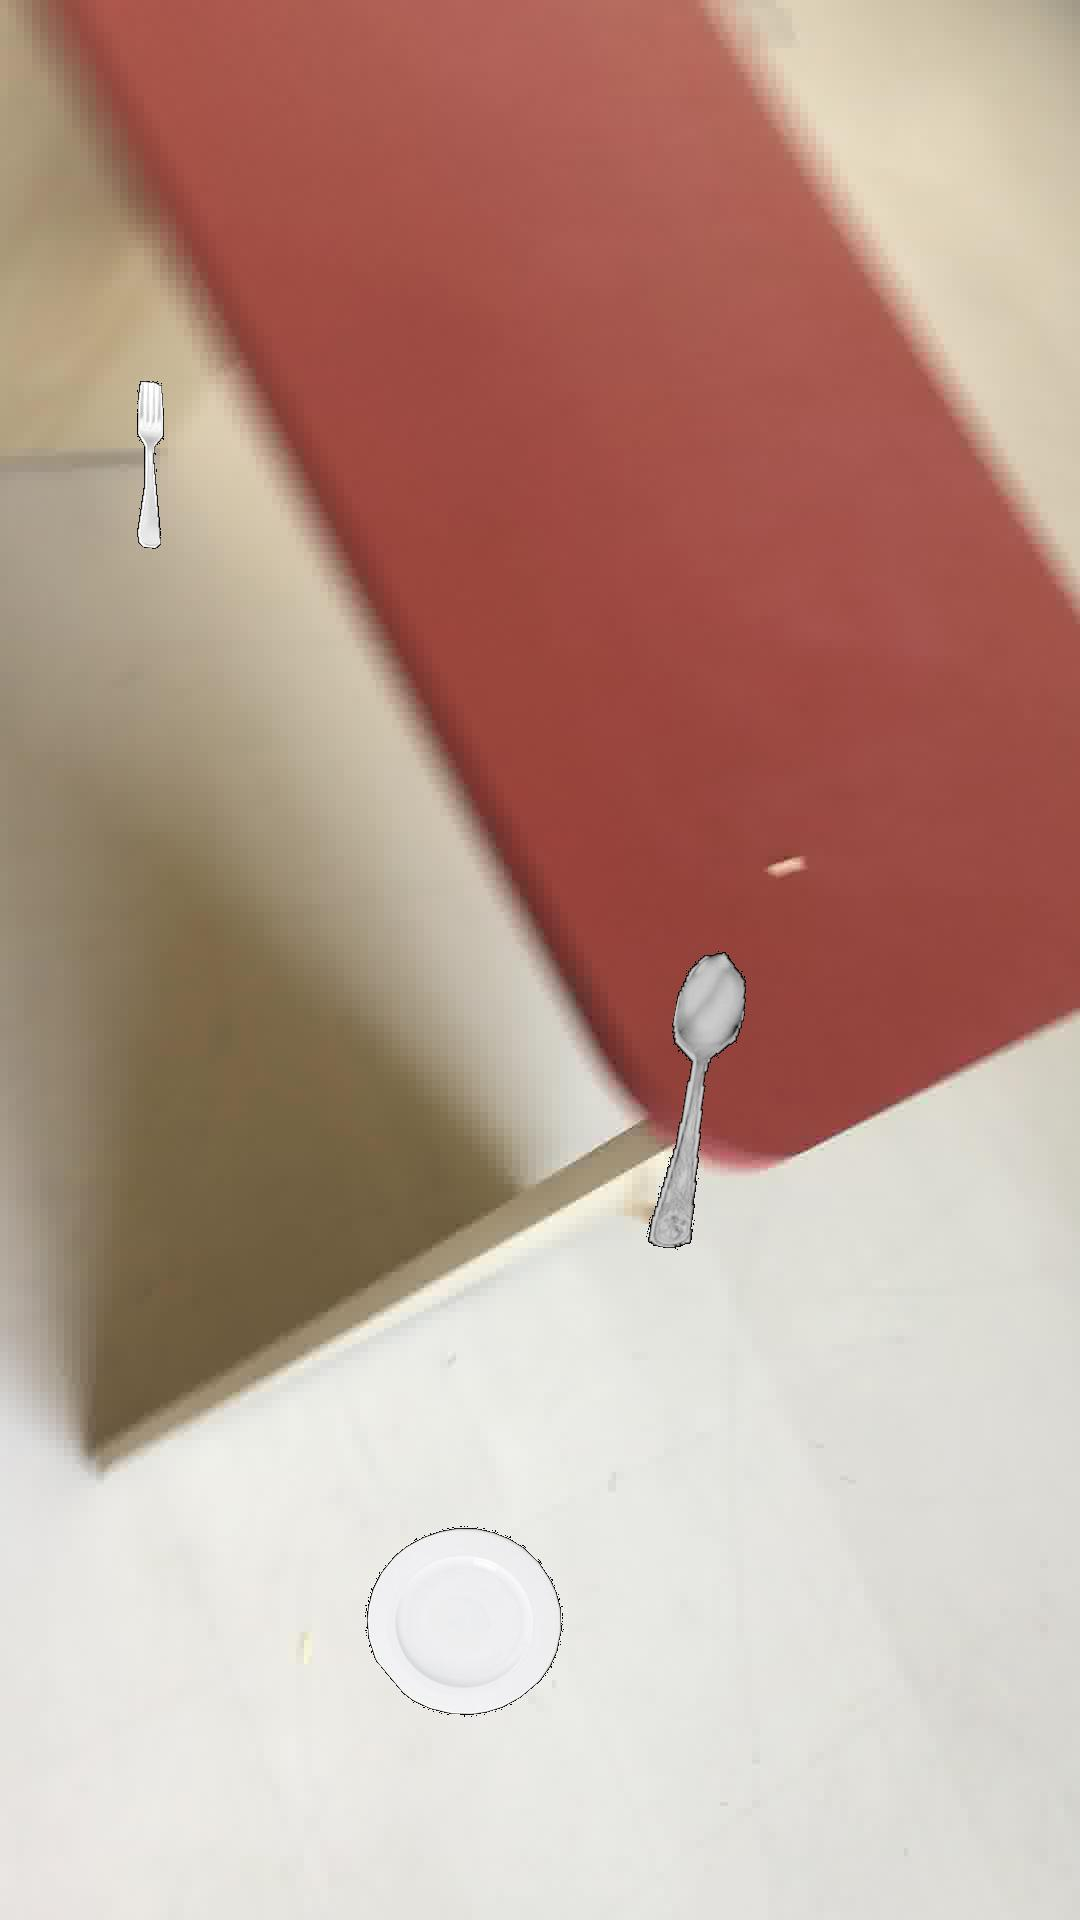fork: (136, 380, 162, 547)
plate: (364, 1527, 560, 1716)
spoon: (646, 951, 745, 1247)
